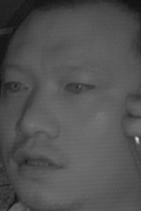eye: (63, 77, 96, 99), (3, 76, 31, 97)
mouth: (11, 145, 66, 179)
